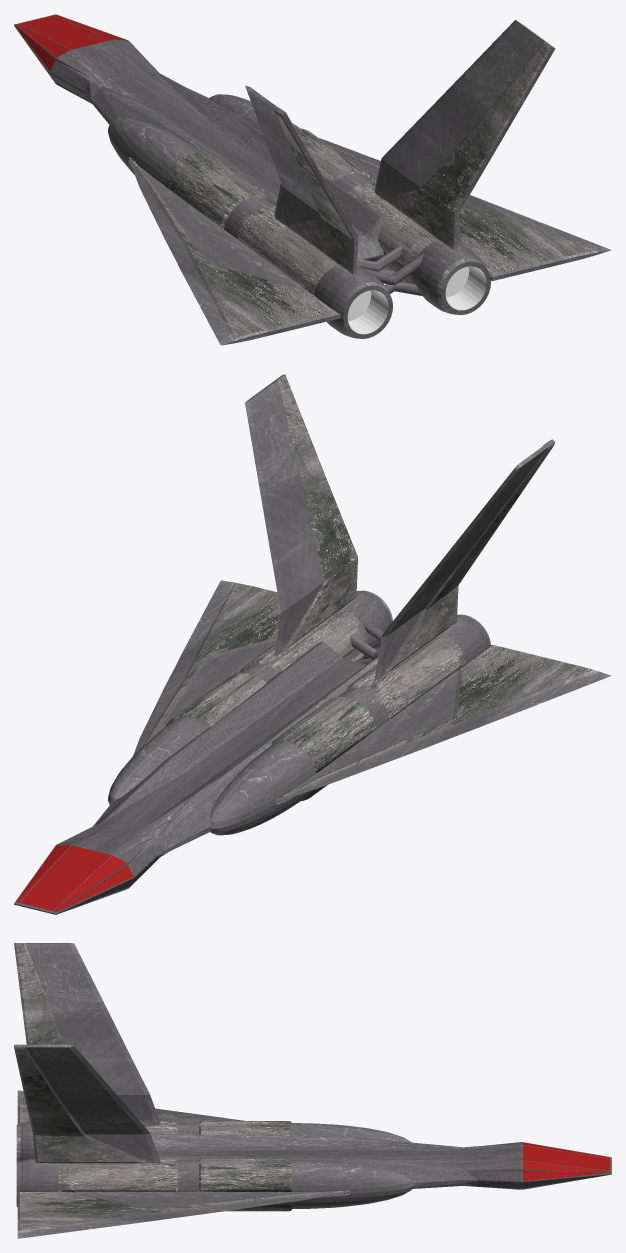
The model's file is spaceship01.obj.
The picture shows the model from 3 angles, top to bottom: view 1: azimuth 30°, elevation 25°; view 2: azimuth 150°, elevation 25°; view 3: azimuth 270°, elevation 25°; orthographic projection. The views are drawn at different scales.
Visible parts, largest first — view 1: spaceship; view 2: spaceship; view 3: spaceship.
Boxes of the visible parts, x1,y1,x2,y2 form: spaceship: (14,14,611,345); spaceship: (14,374,611,914); spaceship: (14,943,611,1238).
Bounding box in the file's own units: 323 × 199 × 550.
5 materials, 3 textured.
